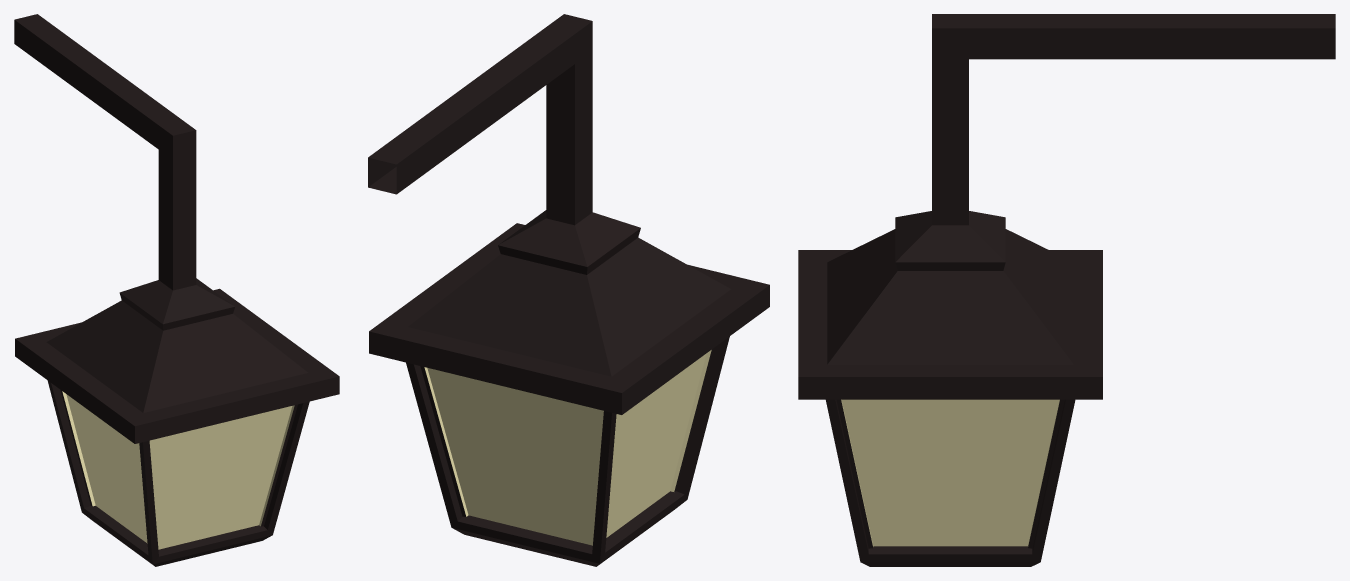
File: lamp.FBX
3 renders of one model, left to right at view 1: azimuth 30°, elevation 25°; view 2: azimuth 150°, elevation 25°; view 3: azimuth 270°, elevation 25°, orthographic. The views are drawn at different scales.
Visible parts, largest first — view 1: lightA_001, lamp_light; view 2: lightA_001, lamp_light; view 3: lightA_001, lamp_light.
Boxes of the visible parts, x1=… form: lightA_001: x1=14, y1=14, x2=339, y2=566; lamp_light: x1=62, y1=391, x2=294, y2=549; lightA_001: x1=368, y1=14, x2=769, y2=566; lamp_light: x1=424, y1=350, x2=711, y2=545; lightA_001: x1=798, y1=14, x2=1335, y2=566; lamp_light: x1=841, y1=399, x2=1059, y2=546.
Size of the model in its own units: 44.11 by 83.01 by 78.86.
